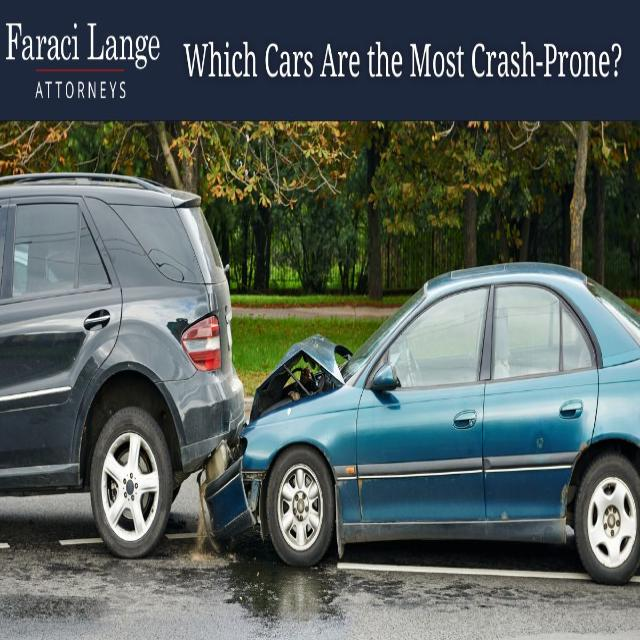Accident: (3, 153, 640, 581)
